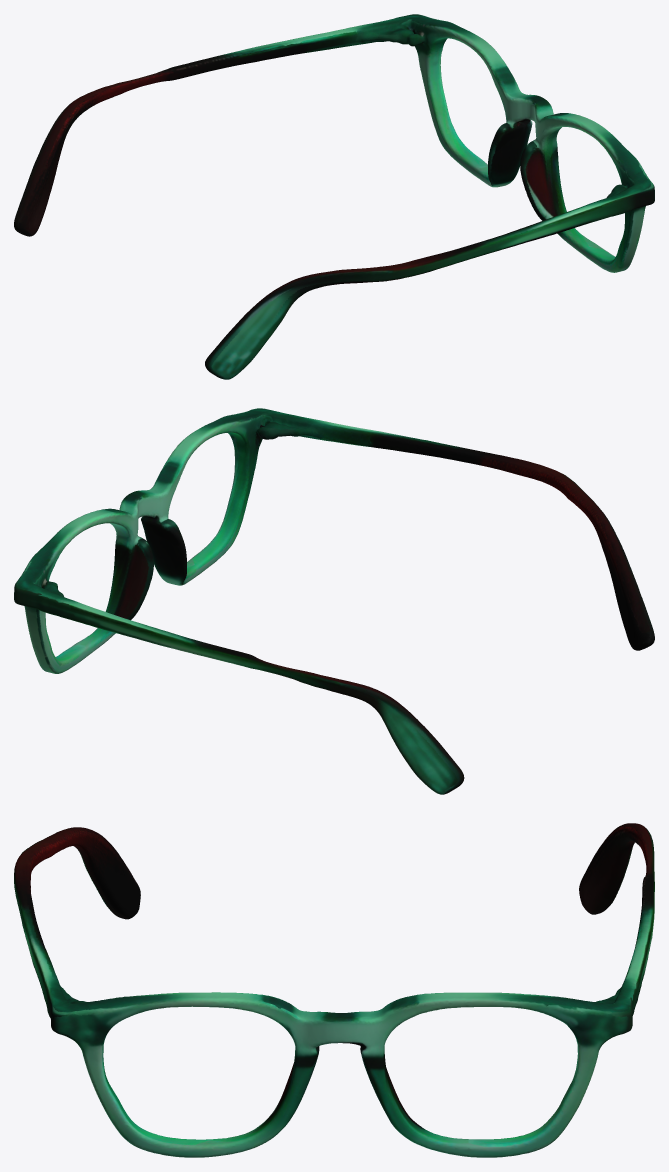
Rendered from lens.glb.
3 views of the same model, one above another, from view 1: azimuth 30°, elevation 25°; view 2: azimuth 150°, elevation 25°; view 3: azimuth 270°, elevation 25° (orthographic). The views are drawn at different scales.
Visible parts, largest first — view 1: tripo_node_f867cc3a-a373-4925-b875-7d807adfbae7; view 2: tripo_node_f867cc3a-a373-4925-b875-7d807adfbae7; view 3: tripo_node_f867cc3a-a373-4925-b875-7d807adfbae7.
Part boxes in pixels (left/top/right/bottom): tripo_node_f867cc3a-a373-4925-b875-7d807adfbae7: left=14, top=14, right=654, bottom=379; tripo_node_f867cc3a-a373-4925-b875-7d807adfbae7: left=14, top=408, right=654, bottom=794; tripo_node_f867cc3a-a373-4925-b875-7d807adfbae7: left=14, top=823, right=654, bottom=1157.
Size of the model in its own units: 0.8875 by 0.2603 by 0.9483.
1 material, 1 textured.
